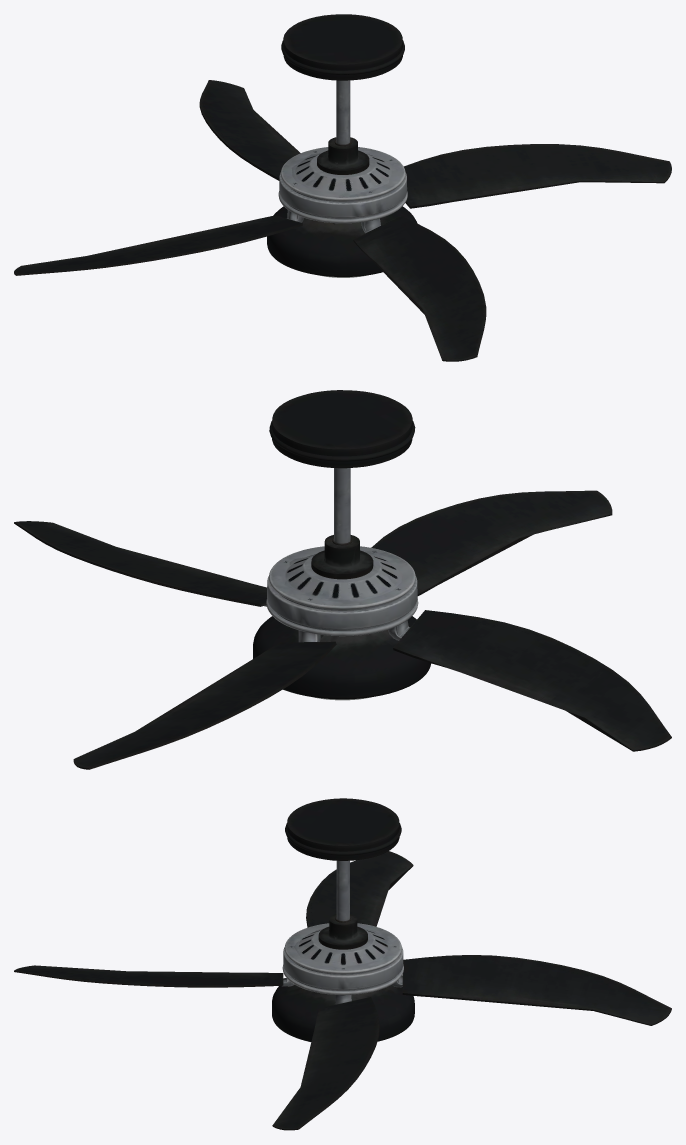
The model's file is ceiling_fan.glb.
3 renders of one model, top to bottom at view 1: azimuth 30°, elevation 25°; view 2: azimuth 150°, elevation 25°; view 3: azimuth 270°, elevation 25°, orthographic. The views are drawn at different scales.
Parts seen in each view (by area): view 1: ceiling_fan, ceiling_fan_lo; view 2: ceiling_fan, ceiling_fan_lo; view 3: ceiling_fan, ceiling_fan_lo.
Boxes of the visible parts, x1,y1,x2,y2 form: ceiling_fan: [14, 14, 671, 361]; ceiling_fan_lo: [16, 80, 669, 359]; ceiling_fan: [14, 390, 671, 769]; ceiling_fan_lo: [14, 490, 671, 769]; ceiling_fan: [14, 798, 671, 1130]; ceiling_fan_lo: [14, 851, 671, 1129].
Bounding box in the file's own units: 1.46 × 0.5163 × 1.46.
Materials: 1 (1 with a texture image).
